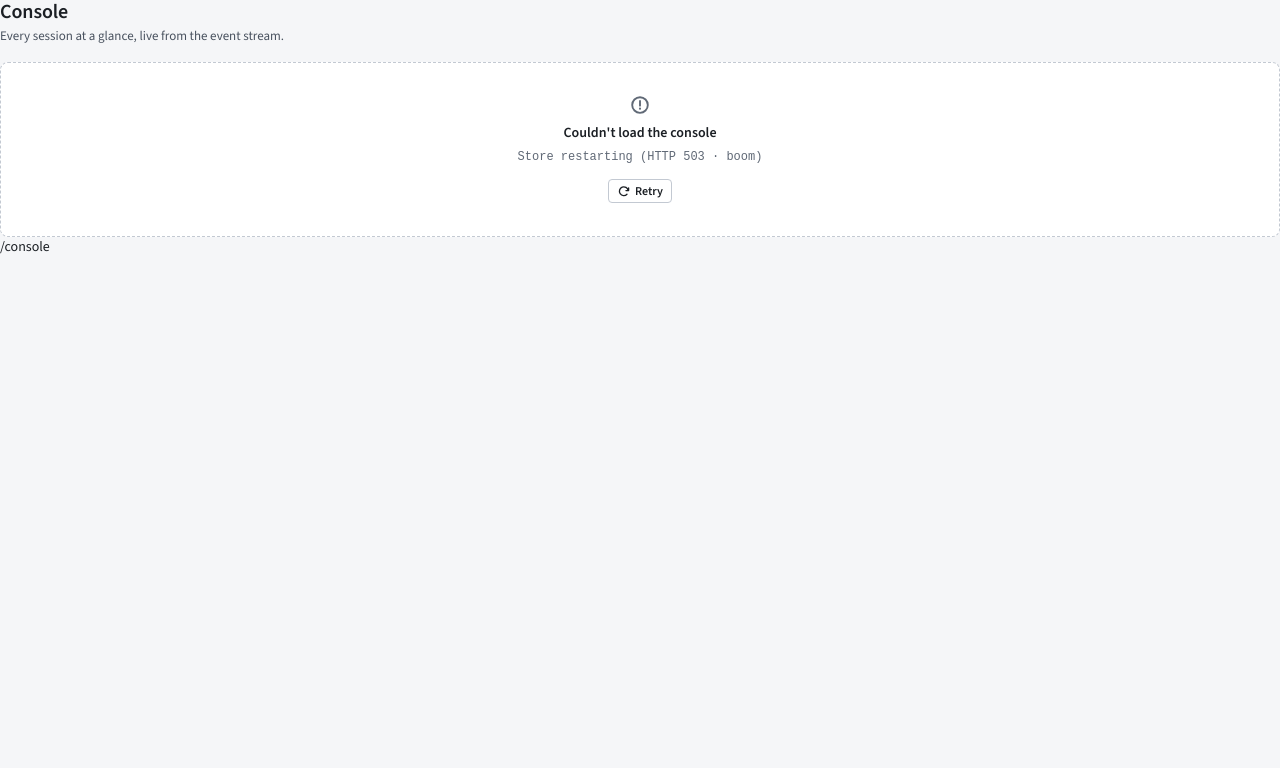
Test: ConsolePage › shows a retryable error when the snapshot cannot load
Expected: the text "Couldn't load the console" is shown, [564,123,716,143]
Click the button "Retry" at (640, 190), box [608,178,672,202]
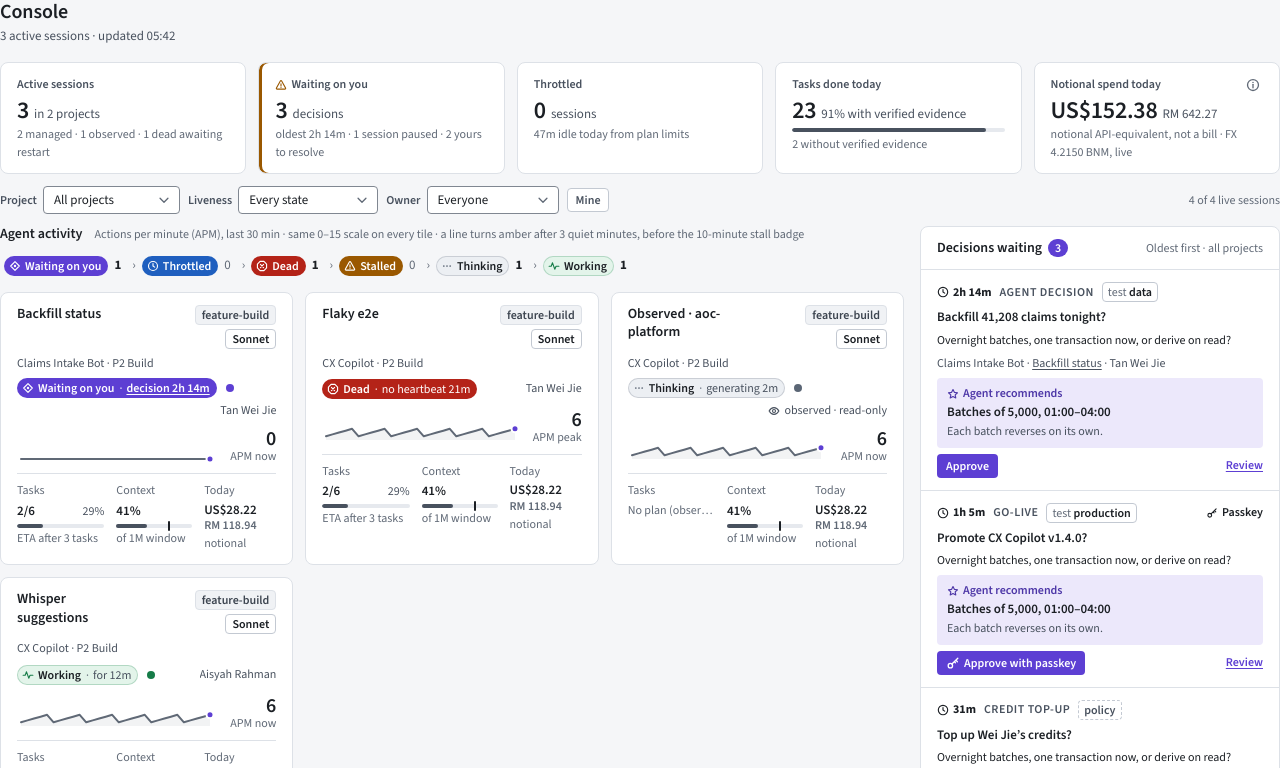
Now the heading "Whisper suggestions" is shown, box [17,589,88,627]
